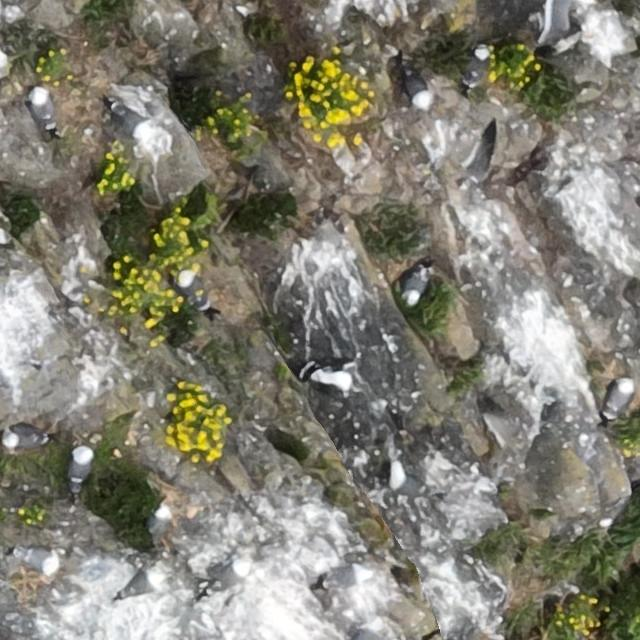umineko: (174, 268, 215, 319), (206, 557, 252, 597), (118, 568, 166, 600), (317, 564, 376, 589), (108, 102, 148, 138), (608, 381, 634, 416), (32, 91, 56, 128), (18, 548, 58, 570), (68, 449, 90, 487), (406, 72, 430, 106), (404, 269, 428, 302), (6, 430, 44, 449), (469, 47, 489, 82), (150, 508, 168, 536)
